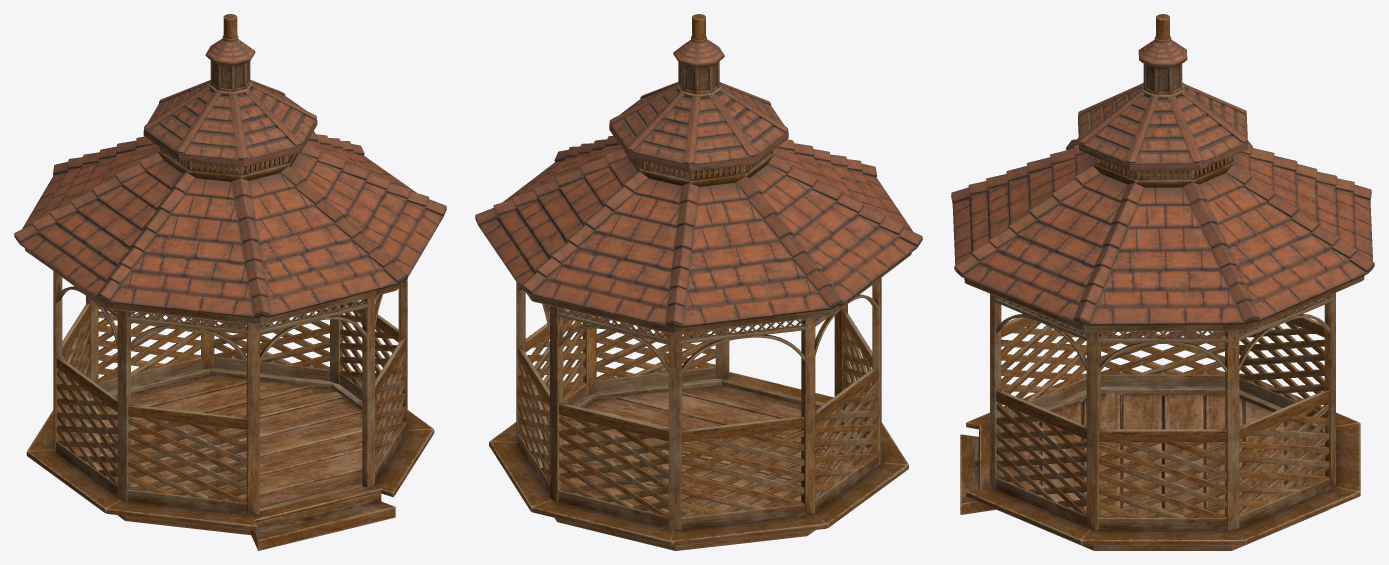
The model's file is demo.glb.
3 renders of one model, left to right at view 1: azimuth 30°, elevation 25°; view 2: azimuth 150°, elevation 25°; view 3: azimuth 270°, elevation 25°, orthographic. The views are drawn at different scales.
Parts seen in each view (by area): view 1: gazebo.2; view 2: gazebo.2; view 3: gazebo.2.
Boxes of the visible parts, x1,y1,x2,y2 form: gazebo.2: [14, 14, 446, 550]; gazebo.2: [475, 14, 922, 550]; gazebo.2: [951, 14, 1374, 550].
Size of the model in its own units: 71.61 by 86.52 by 71.61.
2 materials, 2 textured.
